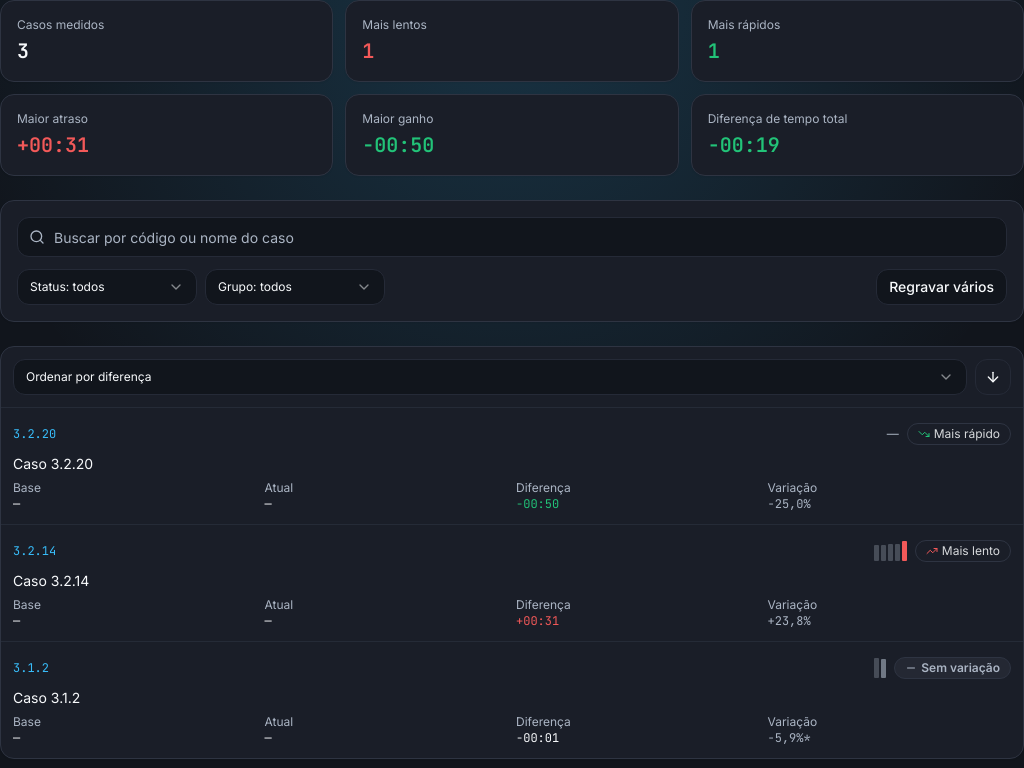
Test: aba Performance com tempos no banco › regravar varios: o que falhar continua marcado
Click the button "Regravar vários" at (942, 287), box [876,269,1007,305]
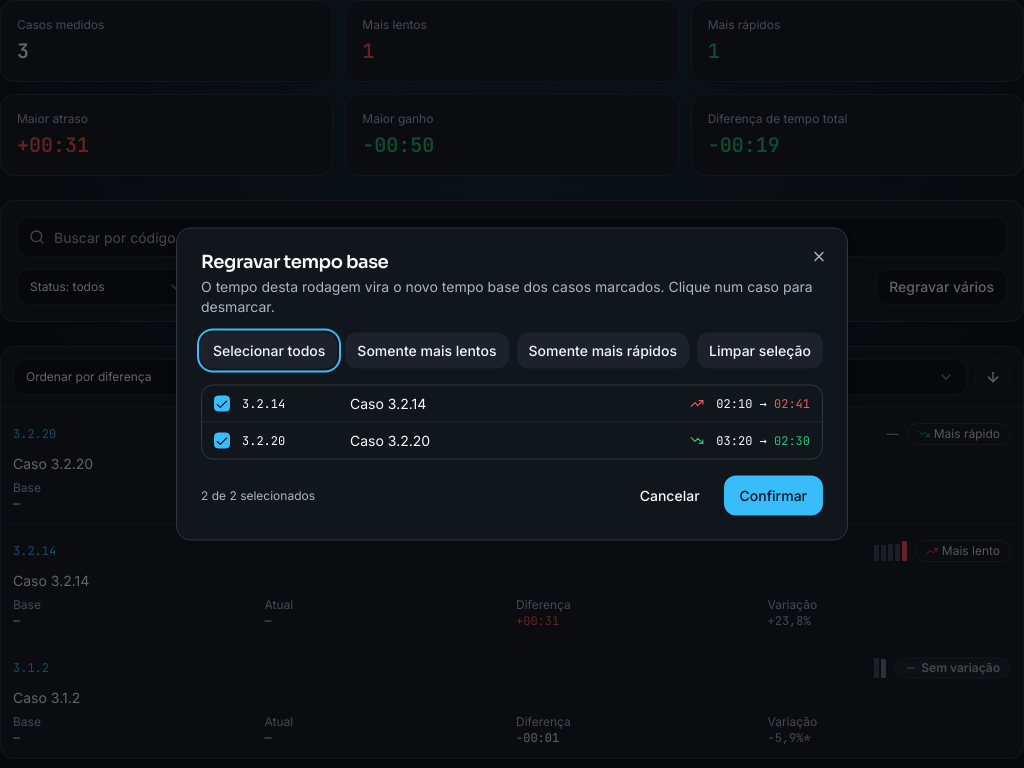
Click the button "Confirmar" at (773, 496), box [724,476,823,516]
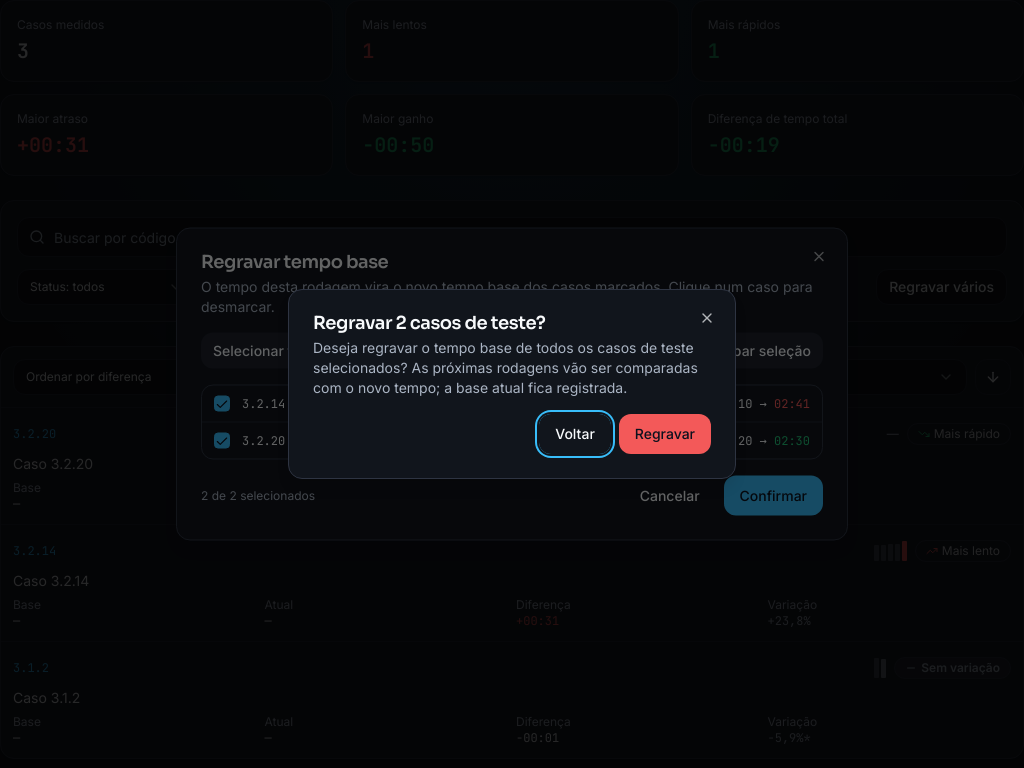
Click the button "Regravar" at (665, 434), box [619,414,711,454]
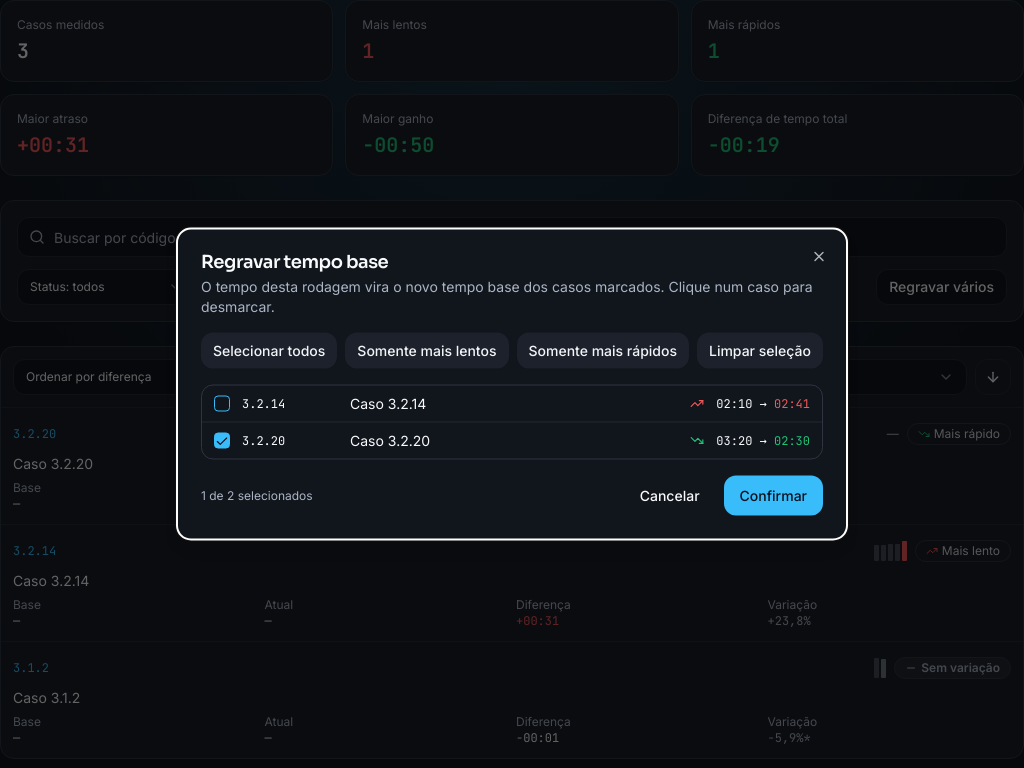
Expected: the checkbox named "CT [3.2.20]" is checked, [214,432,230,448]
Expected: the text "1 de 2 selecionados" is shown, [201,488,313,504]
